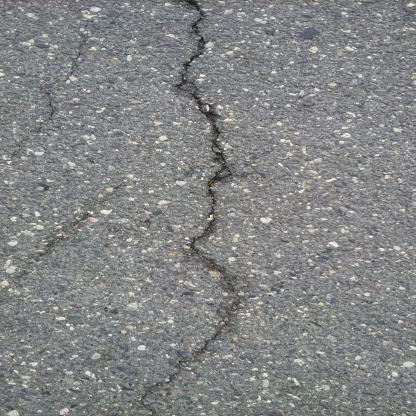Cracks: (144, 1, 258, 391)
